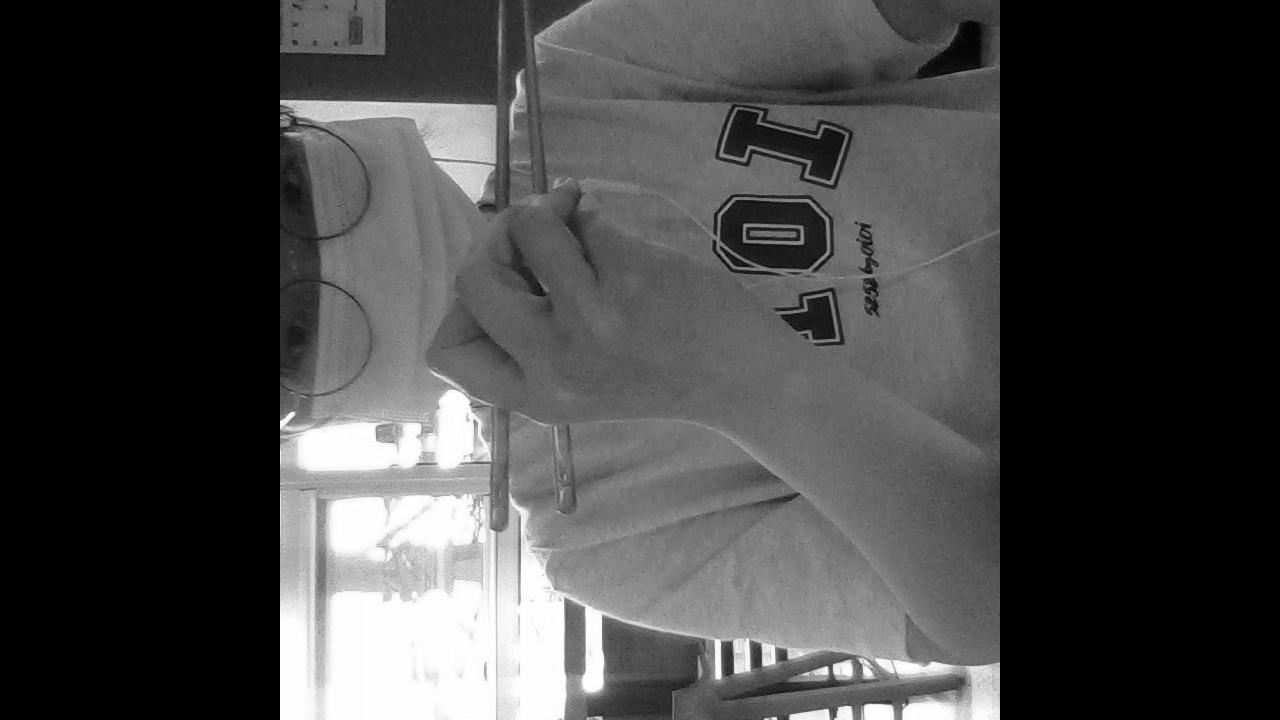chopstick: (514, 0, 578, 516), (490, 0, 509, 530)
hand: (425, 176, 776, 429)
